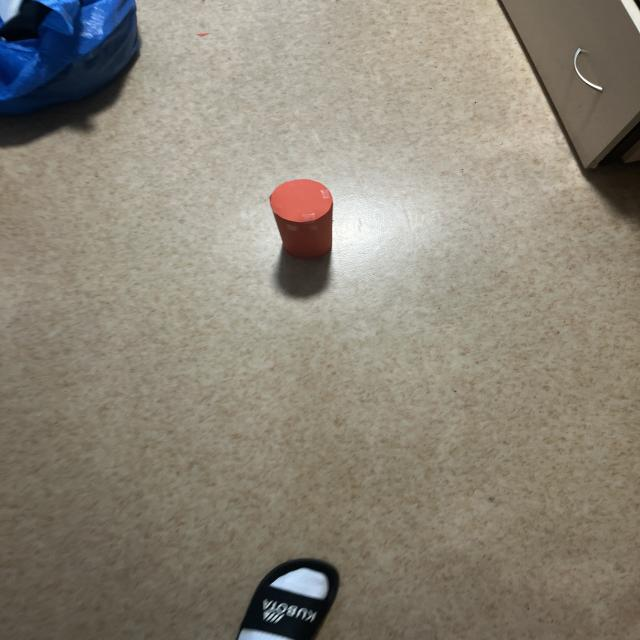przeszkoda: (270, 179, 332, 259)
